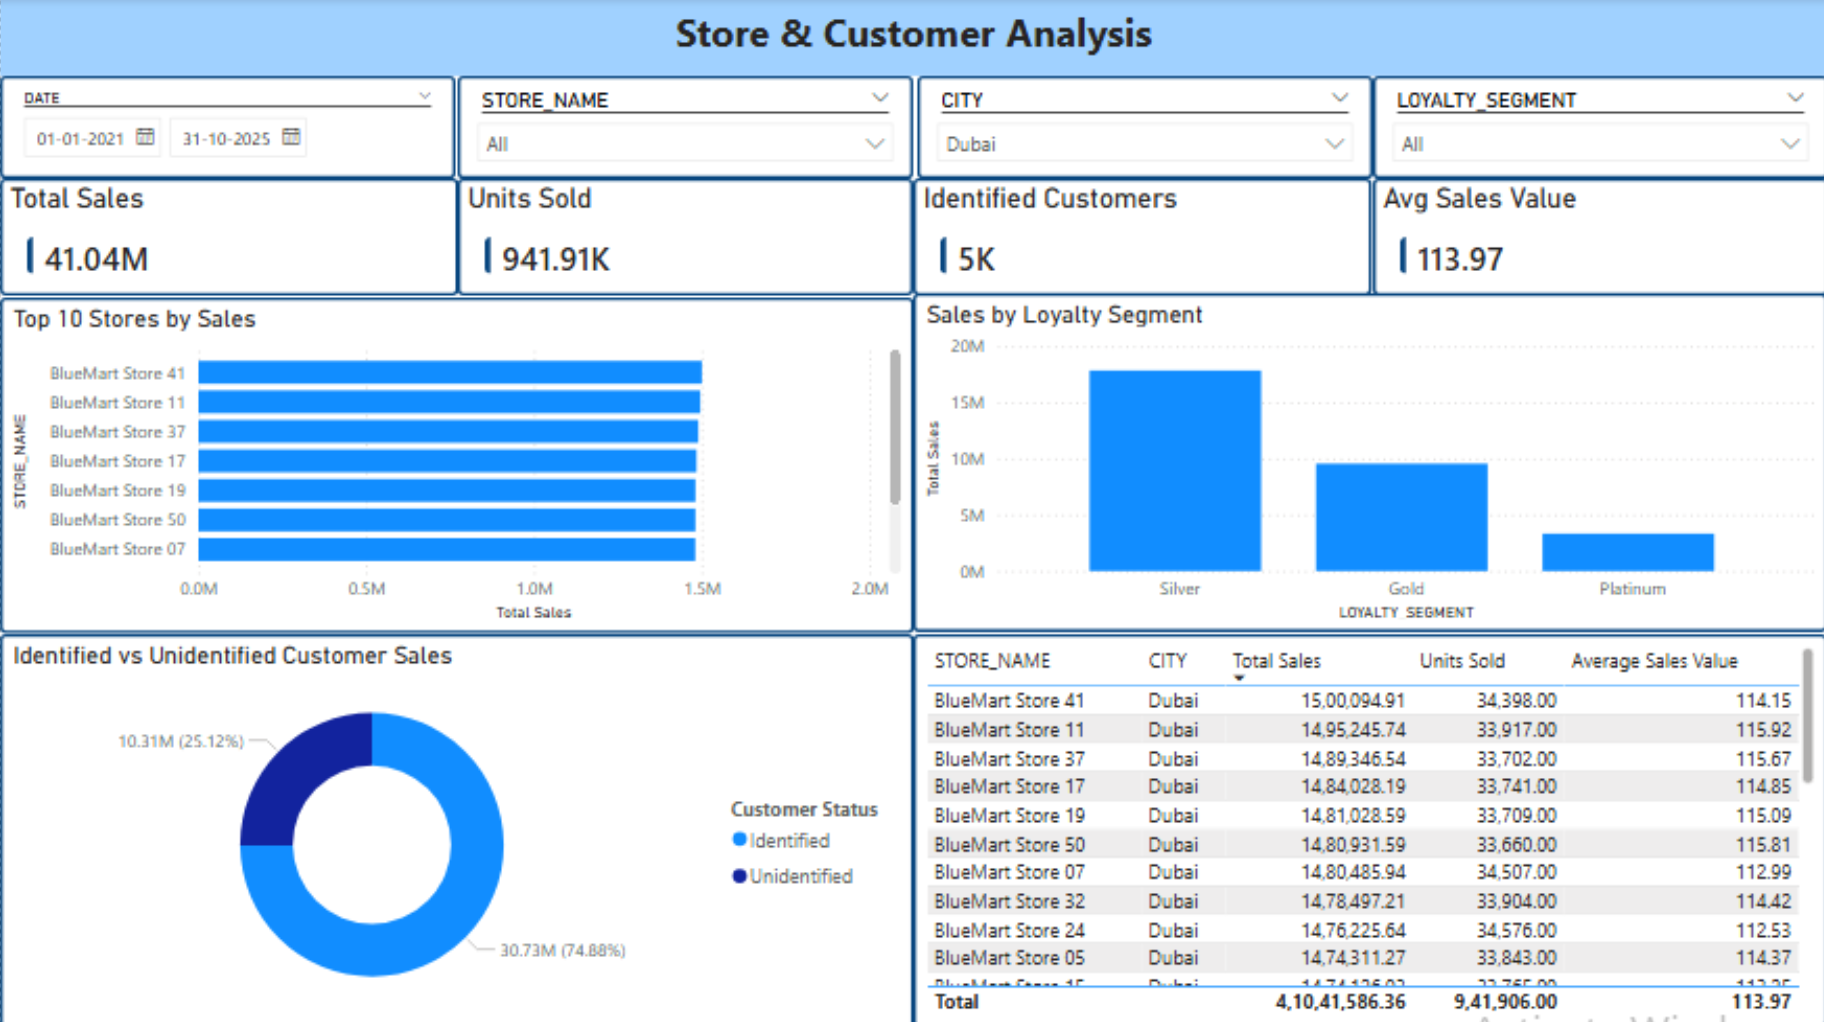

The page's visual inventory and layout, read from the dashboard file:
{"tool":"powerbi","page":{"name":"Store & Customer Analysis","canvas":[1280,720],"ordinal":1},"visuals":[{"type":"textbox","box":[0,0,1280,54.1],"z":0},{"type":"slicer","fields":{"Values":["SALES.DATE"]},"box":[0,54.1,319,71.7],"z":1},{"type":"slicer","fields":{"Values":["STORES.STORE_NAME"]},"box":[320.5,54.1,319,71.7],"z":2},{"type":"slicer","fields":{"Values":["STORES.CITY"]},"box":[642.4,54.1,319,71.7],"z":3},{"type":"slicer","fields":{"Values":["CUSTOMERS.LOYALTY_SEGMENT"]},"box":[961.5,54.1,319,71.7],"z":4},{"type":"cardVisual","title":"Total Sales","fields":{"Data":["SALES.Total Sales"]},"box":[0,125.6,320.9,82],"z":5},{"type":"cardVisual","title":"Units Sold","fields":{"Data":["SALES.Units Sold"]},"box":[320.9,125.6,319.1,82],"z":6},{"type":"cardVisual","title":"Identified Customers","fields":{"Data":["SALES.Identified Customers"]},"box":[640,125.6,320.9,82],"z":7},{"type":"cardVisual","title":"Avg Sales Value","fields":{"Data":["SALES.Average Sales Value"]},"box":[960.9,125.6,319.1,82],"z":8},{"type":"barChart","title":"Top 10 Stores by Sales","fields":{"Category":["STORES.STORE_NAME"],"Y":["SALES.Total Sales"]},"box":[0,209,640,235.1],"z":9},{"type":"columnChart","title":"Sales by Loyalty Segment","fields":{"Category":["CUSTOMERS.LOYALTY_SEGMENT"],"Y":["SALES.Total Sales"]},"box":[640,206.8,640,237.3],"z":10},{"type":"donutChart","title":"Identified vs Unidentified Customer Sales","fields":{"Category":["SALES.Customer Status"],"Y":["SALES.Total Sales"]},"box":[0,444.7,640,275.5],"z":11},{"type":"tableEx","title":"Store Performance Details","fields":{"Values":["STORES.STORE_NAME","STORES.CITY","SALES.Total Sales","SALES.Units Sold","SALES.Average Sales Value"]},"box":[640,445,640,275],"z":12}]}

Visuals, with their boxes in screenshot pixels (x1, y1, x2, y2), scaled from the page's 1280x720 canvas onto the 1824x1022 screenshot:
textbox: <region>0, 0, 1823, 77</region>
slicer - SALES.DATE: <region>0, 77, 455, 179</region>
slicer - STORES.STORE_NAME: <region>457, 77, 911, 179</region>
slicer - STORES.CITY: <region>915, 77, 1370, 179</region>
slicer - CUSTOMERS.LOYALTY_SEGMENT: <region>1370, 77, 1823, 179</region>
"Total Sales" cardVisual: <region>0, 178, 457, 295</region>
"Units Sold" cardVisual: <region>457, 178, 912, 295</region>
"Identified Customers" cardVisual: <region>912, 178, 1369, 295</region>
"Avg Sales Value" cardVisual: <region>1369, 178, 1823, 295</region>
"Top 10 Stores by Sales" barChart: <region>0, 297, 912, 630</region>
"Sales by Loyalty Segment" columnChart: <region>912, 294, 1823, 630</region>
"Identified vs Unidentified Customer Sales" donutChart: <region>0, 631, 912, 1021</region>
"Store Performance Details" tableEx: <region>912, 632, 1823, 1021</region>
